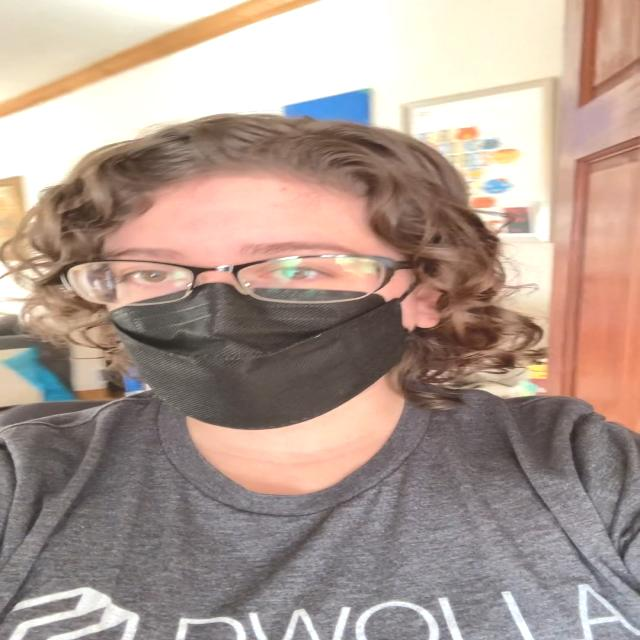mask: (103, 276, 425, 429)
no_helmet: (52, 111, 453, 228)
no_vest: (4, 387, 640, 640)
person: (0, 111, 640, 640)
